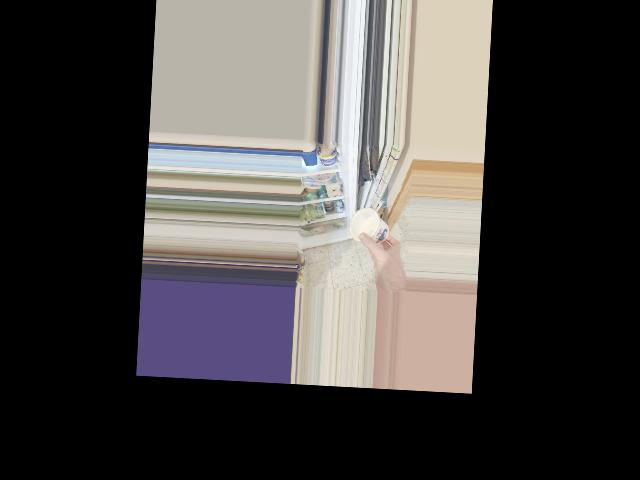cotage: (350, 207, 391, 246)
